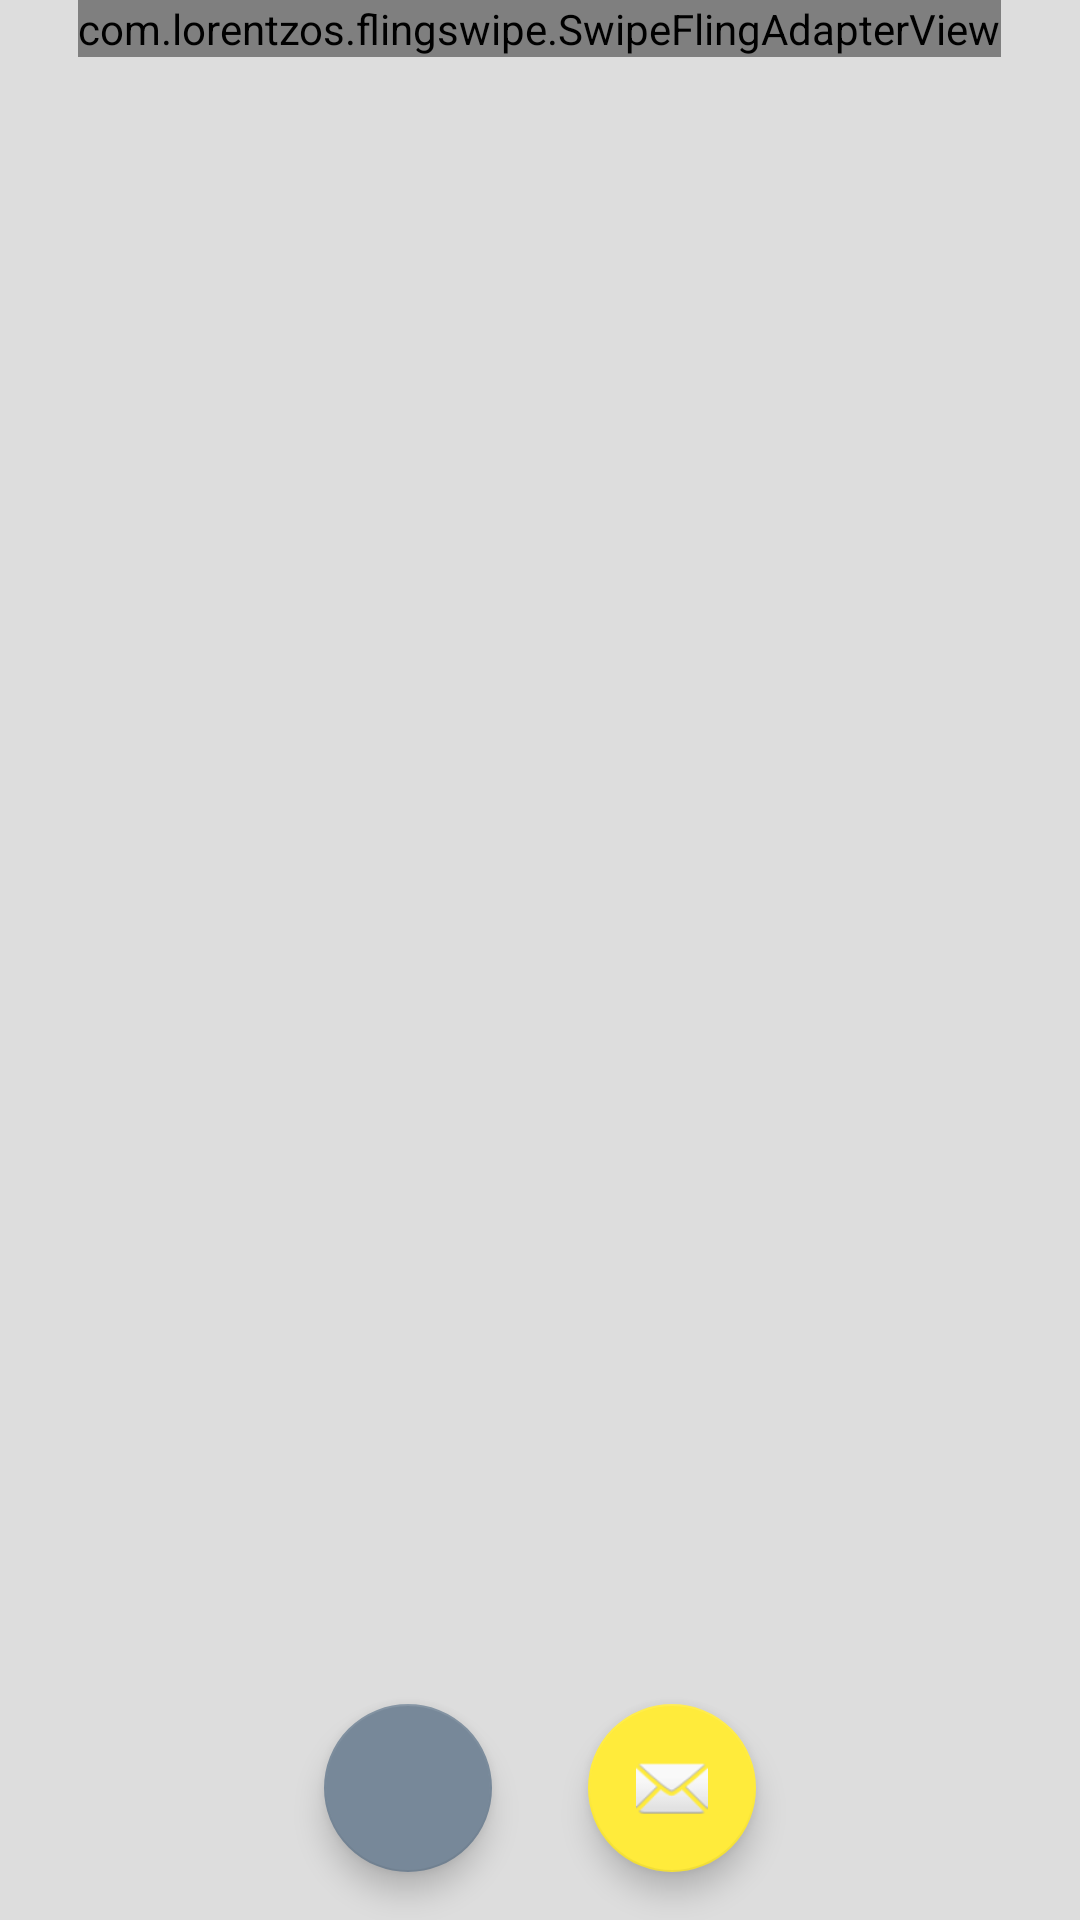

Point at icon controls on the screen. Image size 1080 × 1920, points as [x,y].
email: [672,1788]
